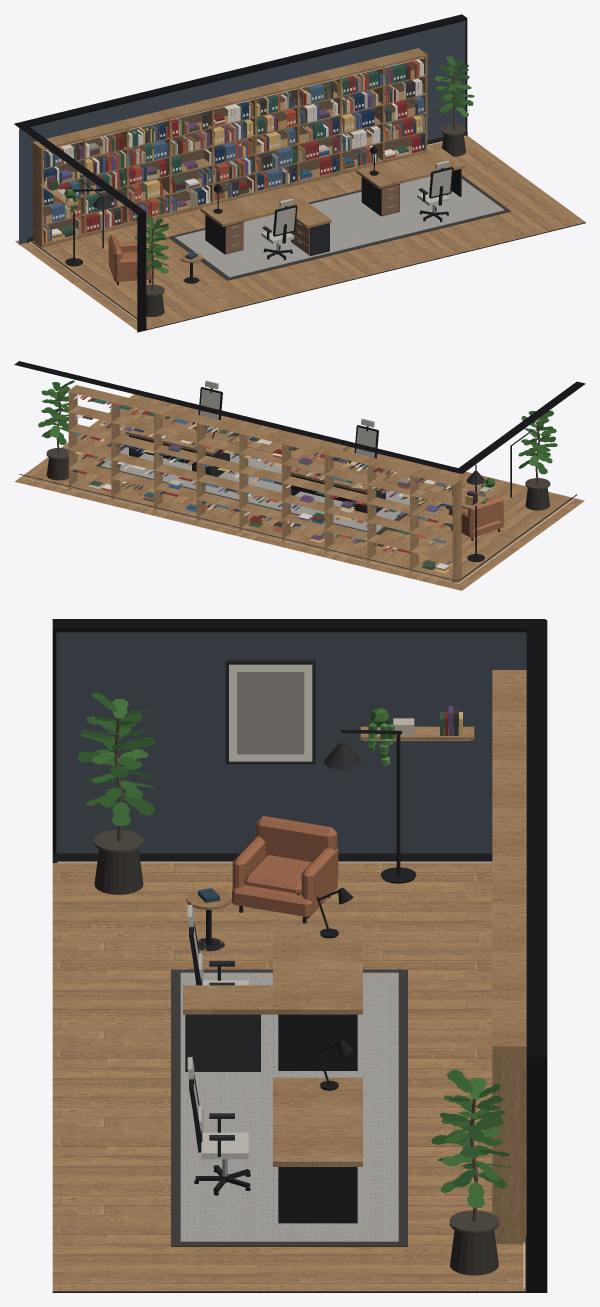
The model's file is research.gltf.
The picture shows the model from 3 angles, top to bottom: view 1: azimuth 30°, elevation 25°; view 2: azimuth 150°, elevation 25°; view 3: azimuth 270°, elevation 25°; orthographic projection. The views are drawn at different scales.
Parts seen in each view (by area): view 1: room_research, leds_research; view 2: room_research, leds_research; view 3: room_research, leds_research.
Part boxes in pixels (x1=…): room_research: x1=14, y1=14, x2=585, y2=332; leds_research: x1=29, y1=57, x2=465, y2=321; room_research: x1=14, y1=361, x2=585, y2=590; leds_research: x1=22, y1=477, x2=574, y2=584; room_research: x1=52, y1=619, x2=547, y2=1292; leds_research: x1=57, y1=740, x2=524, y2=1288.
Bounding box in the file's own units: 10.92 × 2.75 × 5.22.
Materials: 12 (5 with a texture image).
